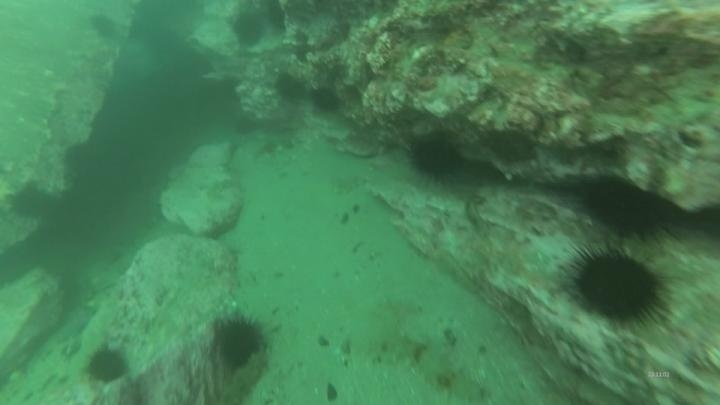echinus: (565, 242, 672, 329), (579, 173, 677, 243), (210, 310, 269, 372), (406, 130, 465, 183), (84, 343, 131, 386), (7, 181, 53, 223), (229, 9, 269, 50), (272, 70, 309, 105), (309, 83, 344, 116), (87, 12, 121, 43)
holothurian: (219, 347, 273, 405)
